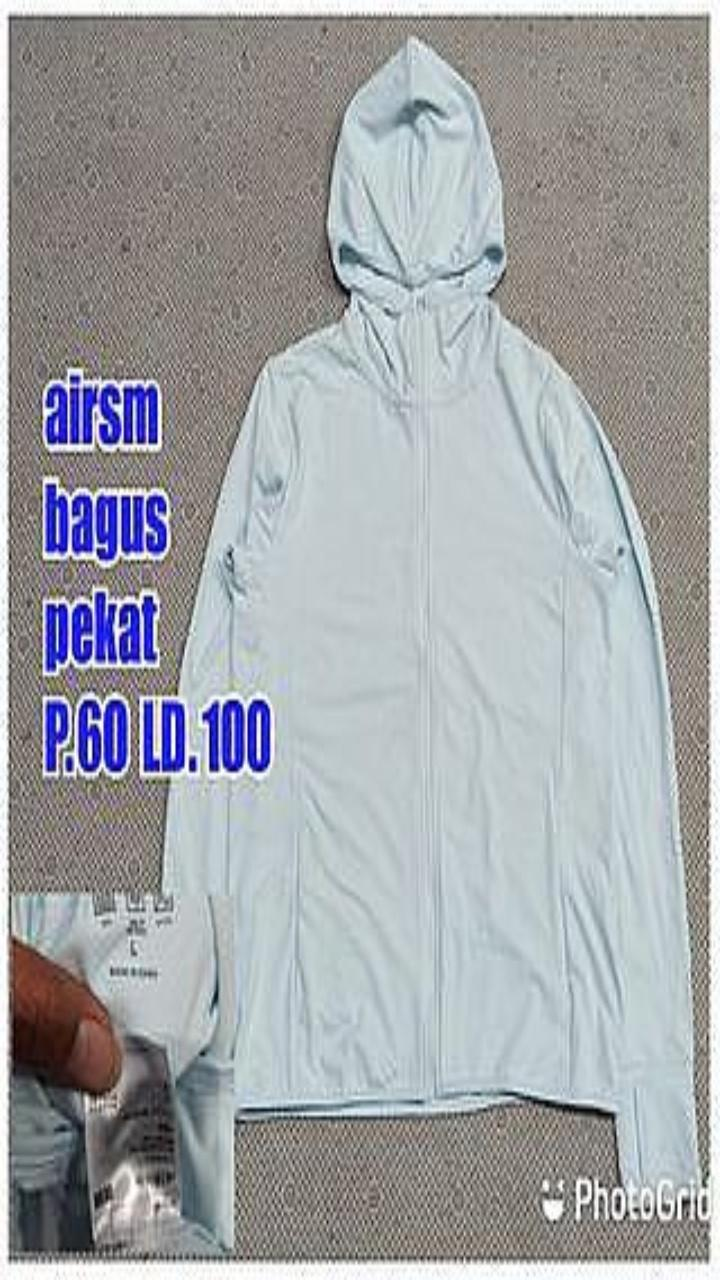Hoodie: (164, 39, 698, 1184)
